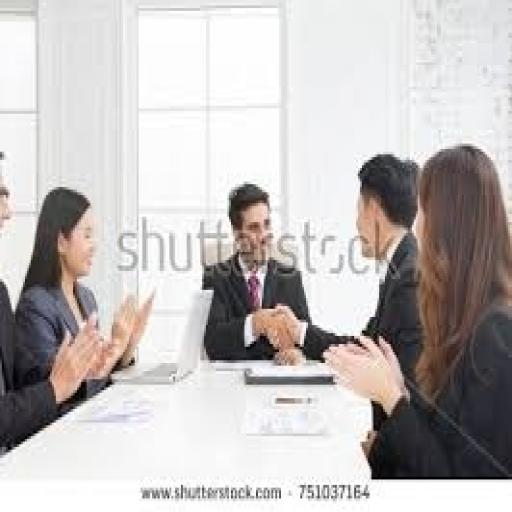clapping: (322, 141, 510, 479), (0, 144, 112, 463), (11, 184, 156, 401)
